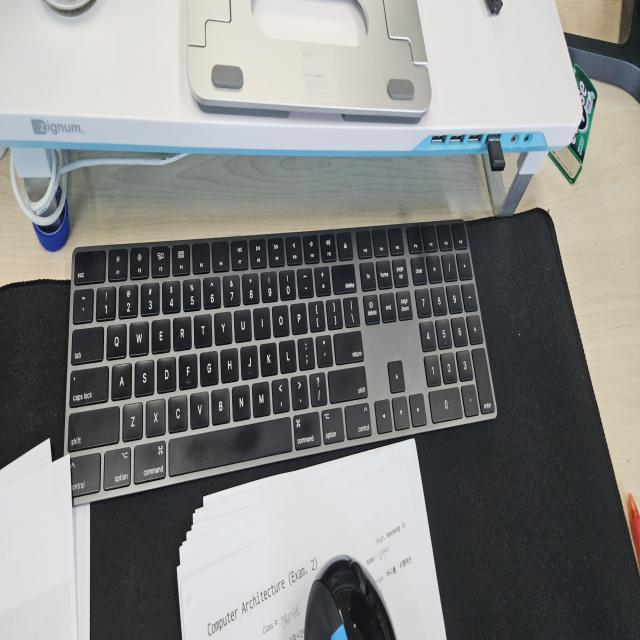Keyboard: (62, 218, 498, 506)
Mouse: (302, 551, 398, 637)
